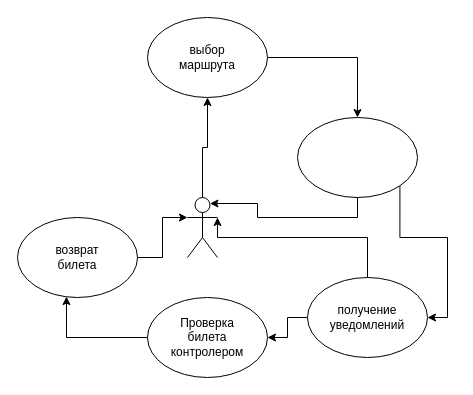
The diagram is 473 pixels wide and 395 high, and some of its shapes have lost their labels. Here are the shapes that lost their labels. From the top down, the centre of each, then its label:
the point at 357,157: покупка билетов
the point at 202,227: Пассажир
